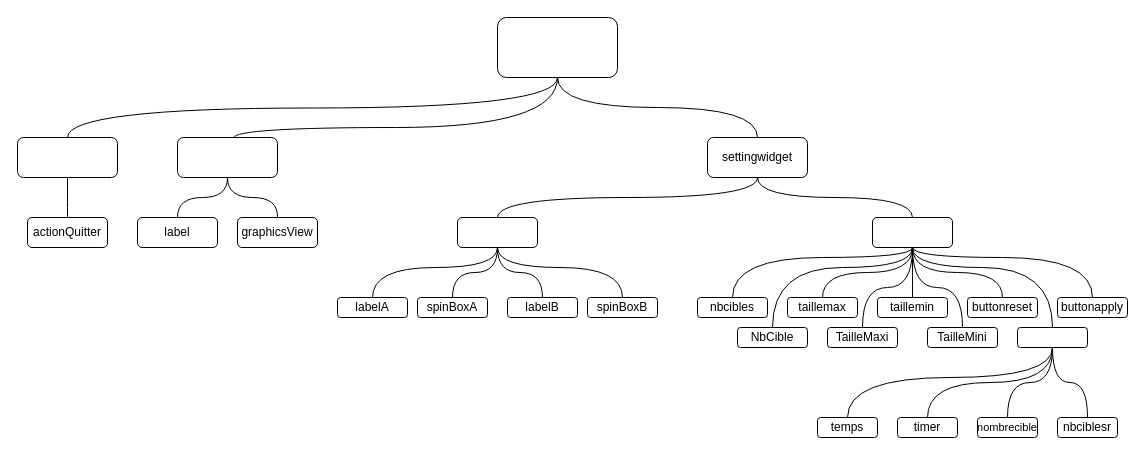
The diagram is 1145 pixels wide and 455 high, and some of its shapes have lost their labels. Here are the shapes that lost their labels. From the top down, the centre of each, then its label:
the point at 557,47: centralwidget
the point at 67,157: menuOptions
the point at 227,157: MainWidget
the point at 497,232: groupbox2
the point at 912,232: groupbox3
the point at 1052,337: groupBox
